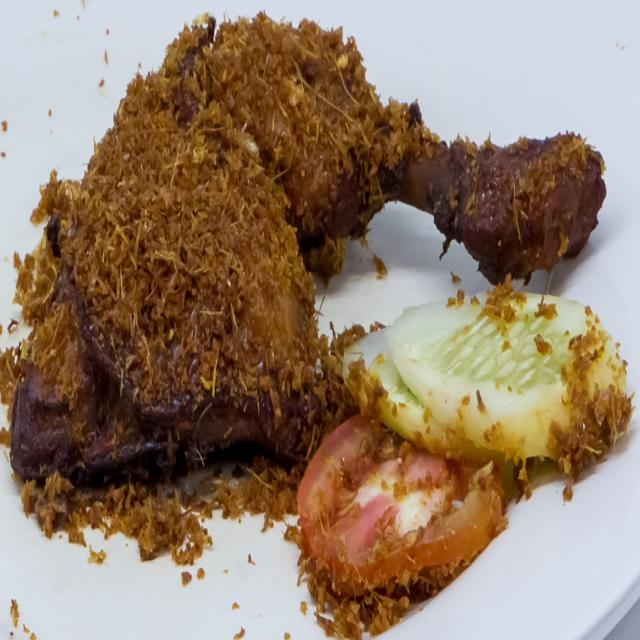Ayam-Goreng-Lengkuas: (8, 8, 609, 530)
